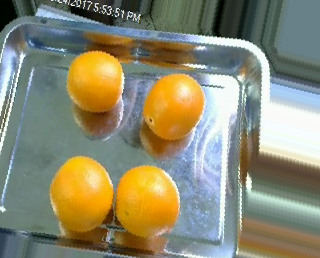Orange: (48, 154, 114, 234), (115, 165, 181, 238), (142, 73, 206, 142), (66, 49, 125, 112)
